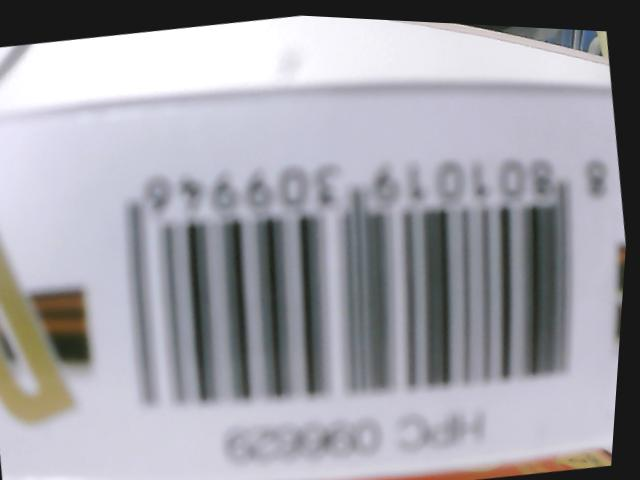whitepocky-1800-2025-8-10: (99, 100, 635, 437)
